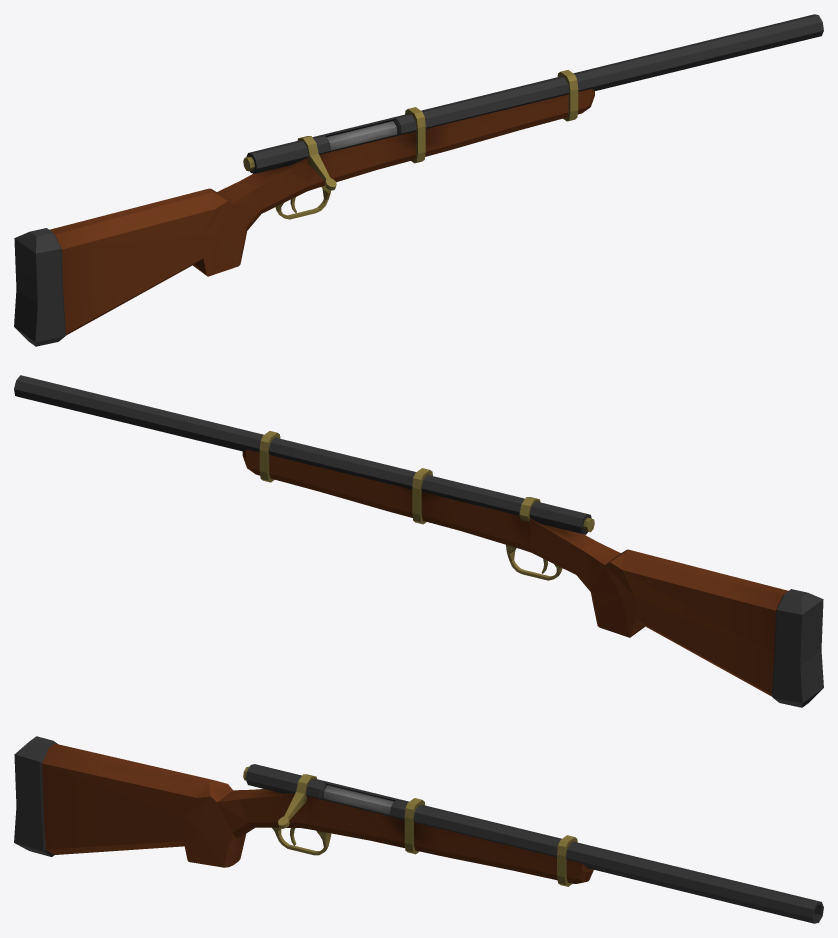
Rendered from v-boltaction-rifles-a-medium.glb.
3 renders of one model, top to bottom at view 1: azimuth 30°, elevation 25°; view 2: azimuth 150°, elevation 25°; view 3: azimuth 330°, elevation 25°, orthographic.
Parts seen in each view (by area): view 1: stock (×2), front (×3), receiver (×4), grip; view 2: stock (×2), front (×3), receiver (×3), grip; view 3: front (×3), stock (×2), receiver (×4), grip.
Boxes of the visible parts, <box> form: stock (×2): <box>14,200,175,346</box>; front (×3): <box>370,14,823,169</box>; receiver (×4): <box>163,123,378,277</box>; grip: <box>186,215,215,276</box>; stock (×2): <box>662,561,823,707</box>; front (×3): <box>14,375,465,530</box>; receiver (×3): <box>459,484,674,638</box>; grip: <box>622,576,651,637</box>; front (×3): <box>367,793,823,923</box>; stock (×2): <box>14,736,167,856</box>; receiver (×4): <box>156,764,375,867</box>; grip: <box>172,799,197,863</box>.
Bounding box in the file's own units: 1.2 × 0.2042 × 0.0984.
